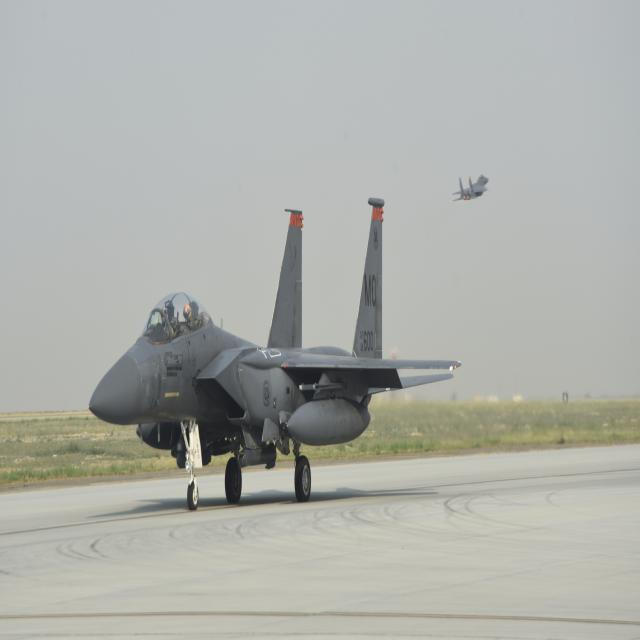MIL_Plane: (88, 198, 461, 510), (452, 174, 489, 201)
